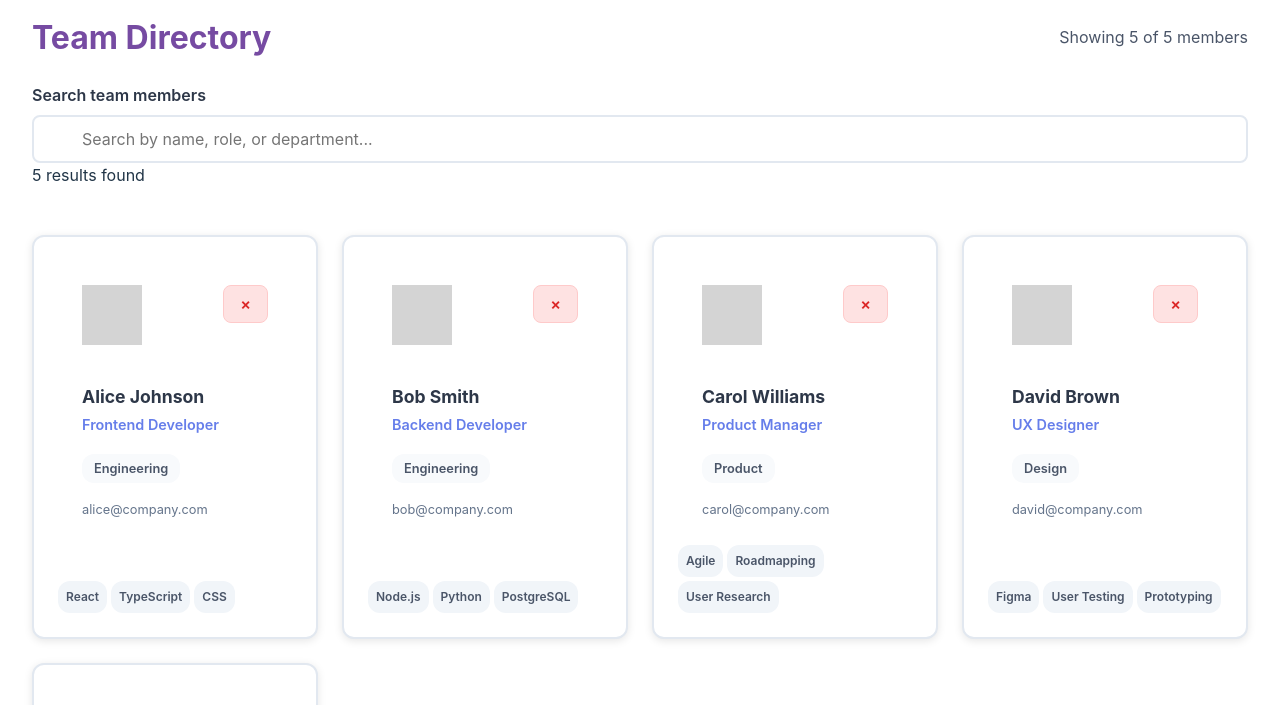
Test: TeamDirectory Component › Member Selection › opens detail modal when member is clicked
This screenshot has width=1280, height=705.
Expected: the heading "Alice Johnson" is shown, [82,386,204,407]
Step 1. Click the button with test id "team-member-1" → (112, 315), box [32,235,318,639]
(page scrolled)
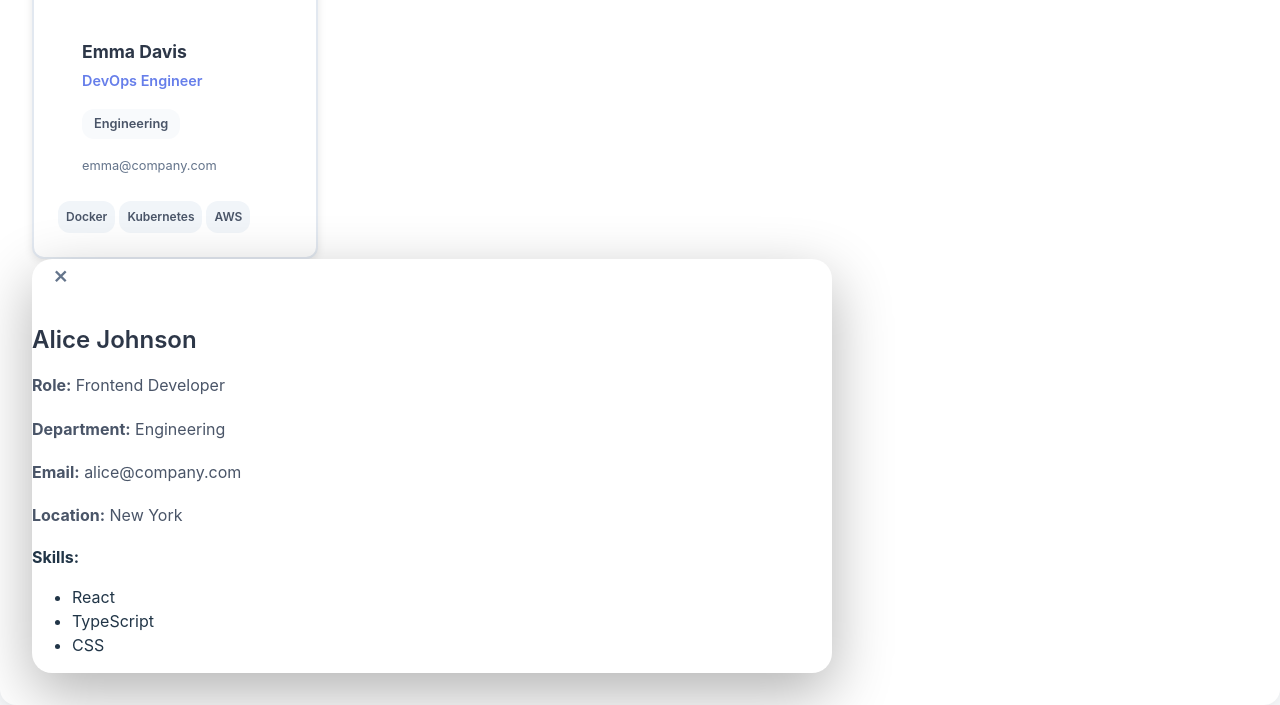
Now the dialog is shown, box [32,259,832,673]
